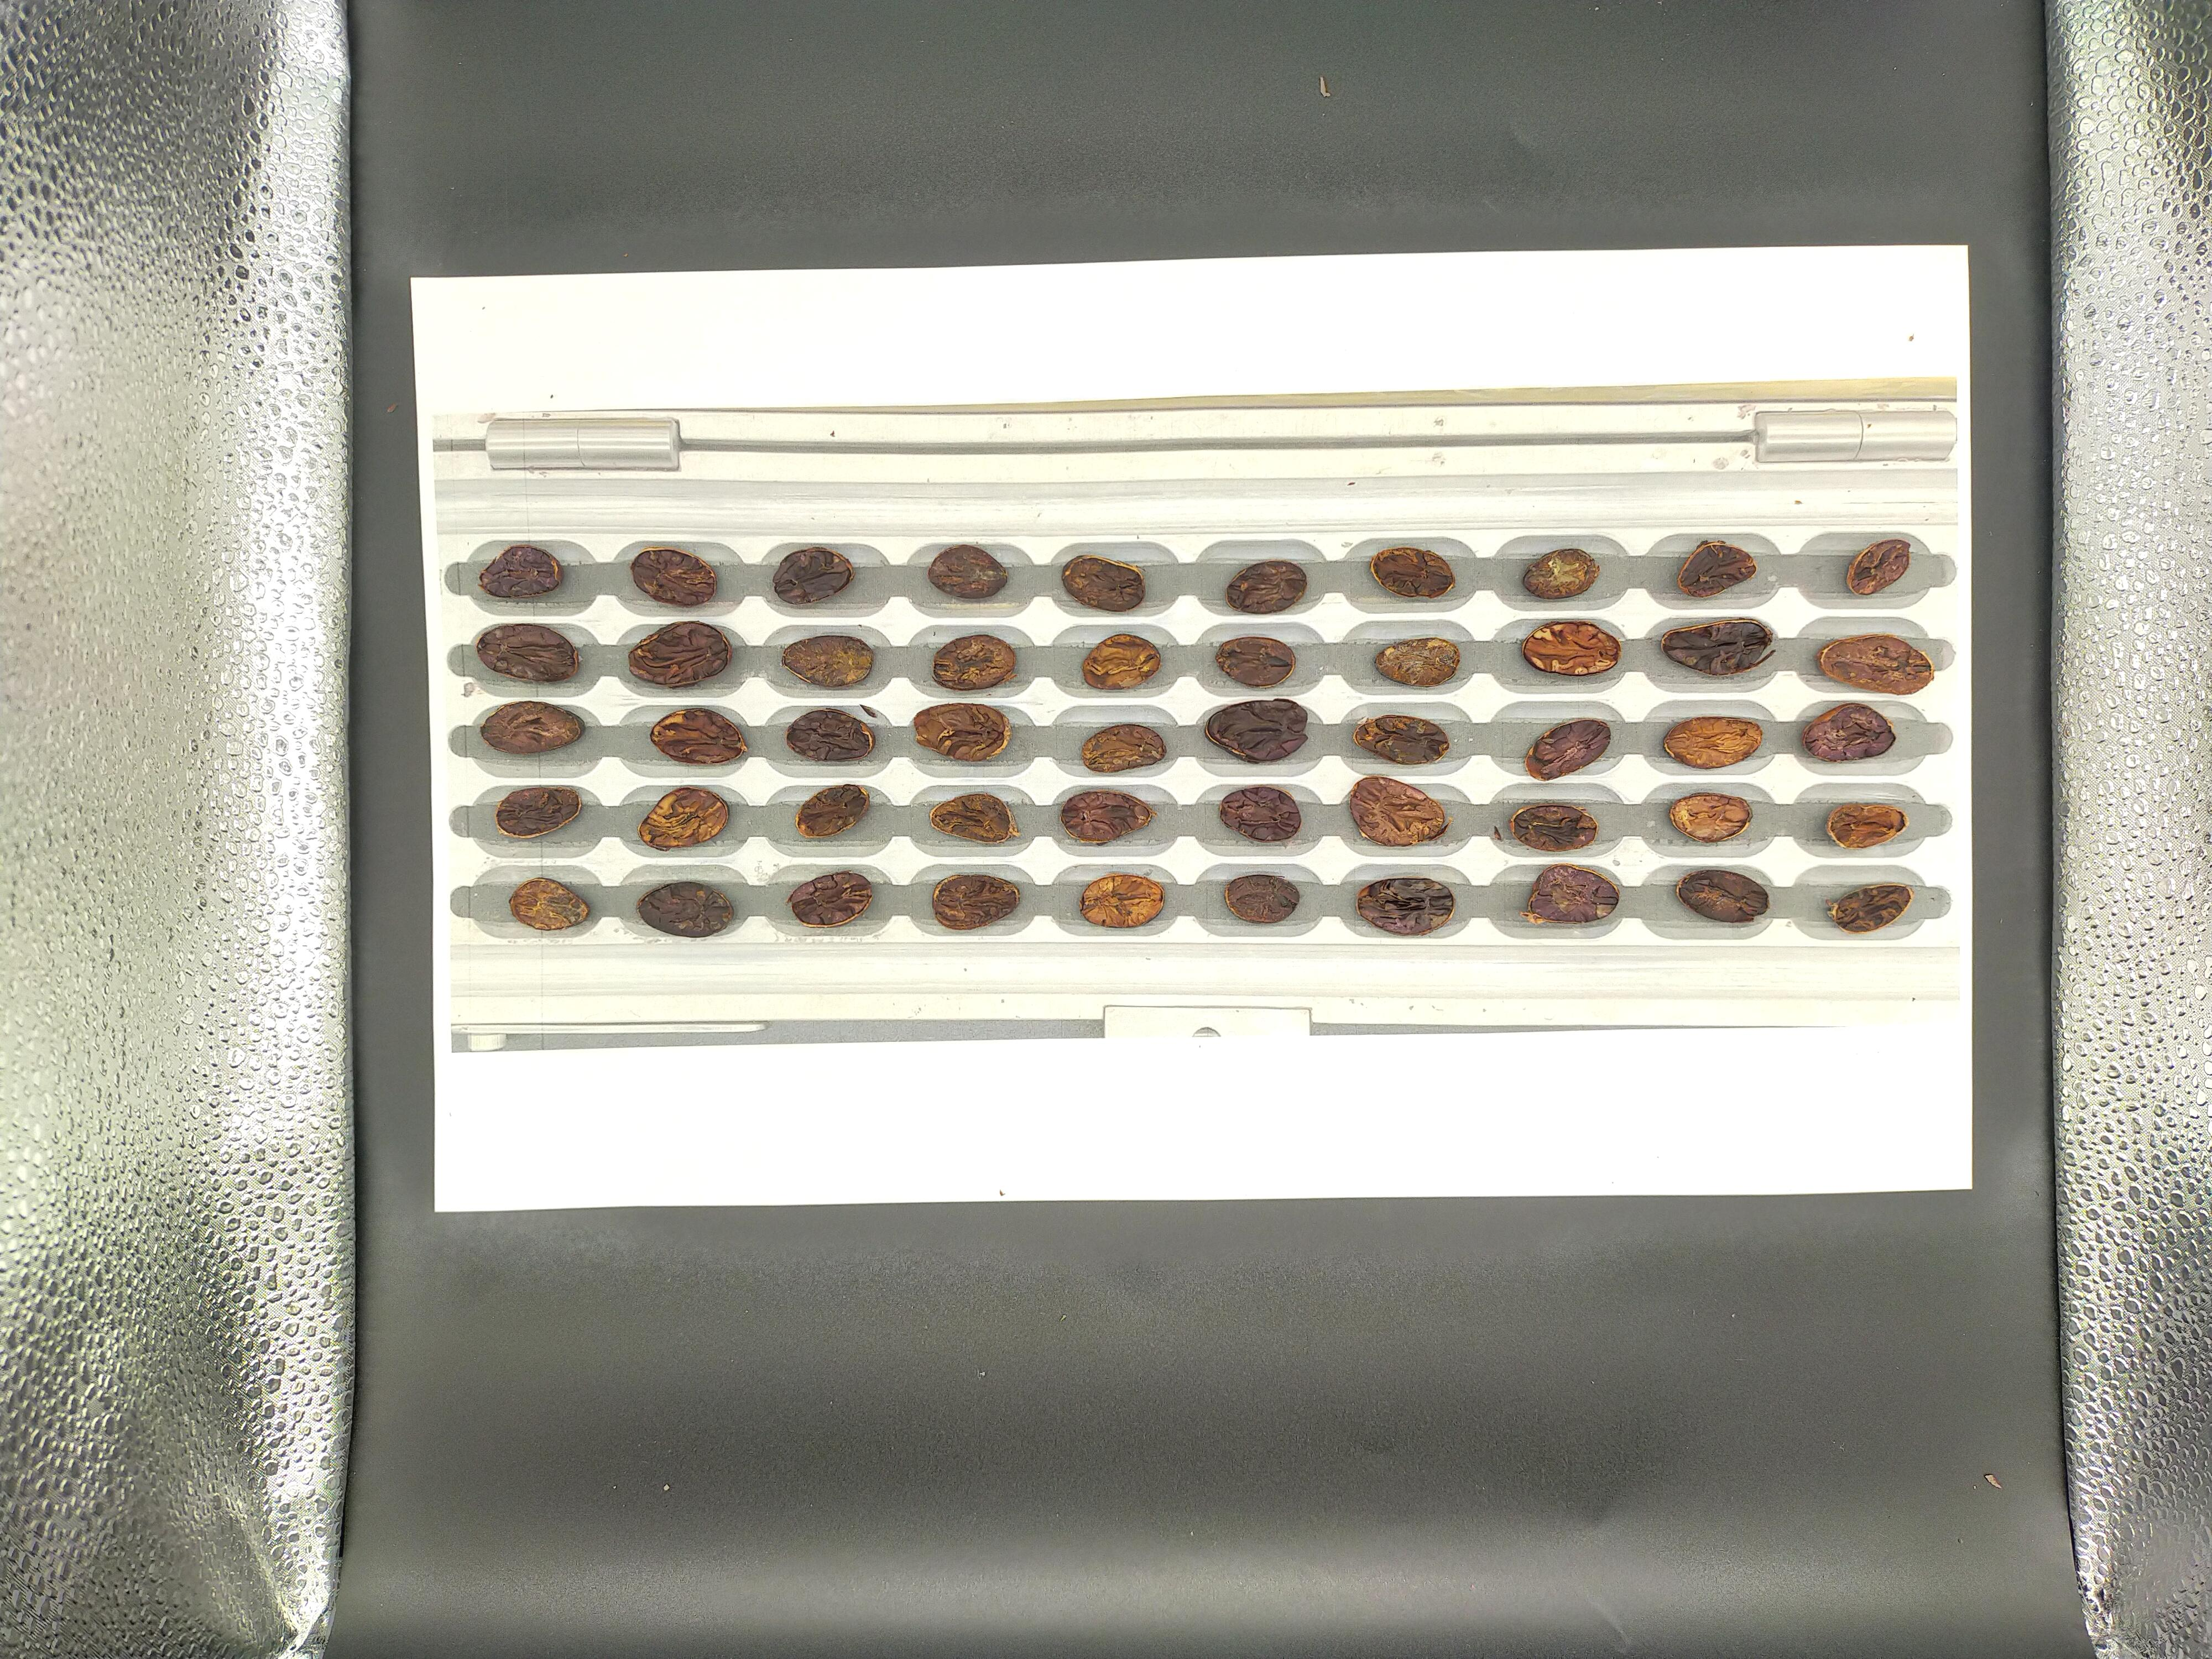Brown - G1: (317, 1124, 380, 1164), (331, 1169, 385, 1206), (775, 1126, 833, 1159), (934, 1216, 981, 1249)
Brown - G2: (686, 1206, 744, 1246), (322, 1209, 378, 1249), (475, 1251, 528, 1291), (465, 1168, 521, 1204), (320, 1084, 371, 1124), (538, 1213, 594, 1243), (404, 1208, 451, 1243), (474, 1215, 526, 1246), (697, 1089, 747, 1121), (552, 1133, 597, 1166)
Brown - G3: (928, 1133, 993, 1169), (244, 1164, 305, 1199), (850, 1171, 906, 1208), (475, 1133, 524, 1168), (542, 1091, 590, 1126), (550, 1255, 601, 1288), (942, 1082, 982, 1119), (620, 1134, 667, 1164), (853, 1215, 900, 1244), (552, 1180, 599, 1208)
Insect-damaged: (397, 1133, 453, 1166)
Mouldy: (472, 1086, 521, 1122), (258, 1256, 307, 1290), (702, 1134, 752, 1164), (779, 1087, 822, 1121), (624, 1256, 671, 1284)
Partly Purple - G1: (613, 1166, 672, 1202), (401, 1255, 451, 1288)
Partly Purple - G2: (846, 1124, 911, 1161), (239, 1124, 300, 1162), (691, 1256, 747, 1291), (401, 1169, 455, 1204), (622, 1209, 669, 1244), (772, 1220, 820, 1249)
Partly Purple - G3: (779, 1173, 827, 1215)
Total Purple - G2: (240, 1086, 294, 1121)
Total Purple - G3: (921, 1168, 972, 1204), (779, 1251, 831, 1286)
Very Dark Brown - G1: (935, 1260, 984, 1293)
Very Dark Brown - G2: (392, 1086, 442, 1124), (251, 1209, 301, 1243), (625, 1094, 674, 1127), (857, 1086, 902, 1119)
Very Dark Brown - G3: (320, 1258, 380, 1295), (855, 1253, 909, 1286), (691, 1175, 747, 1204)
